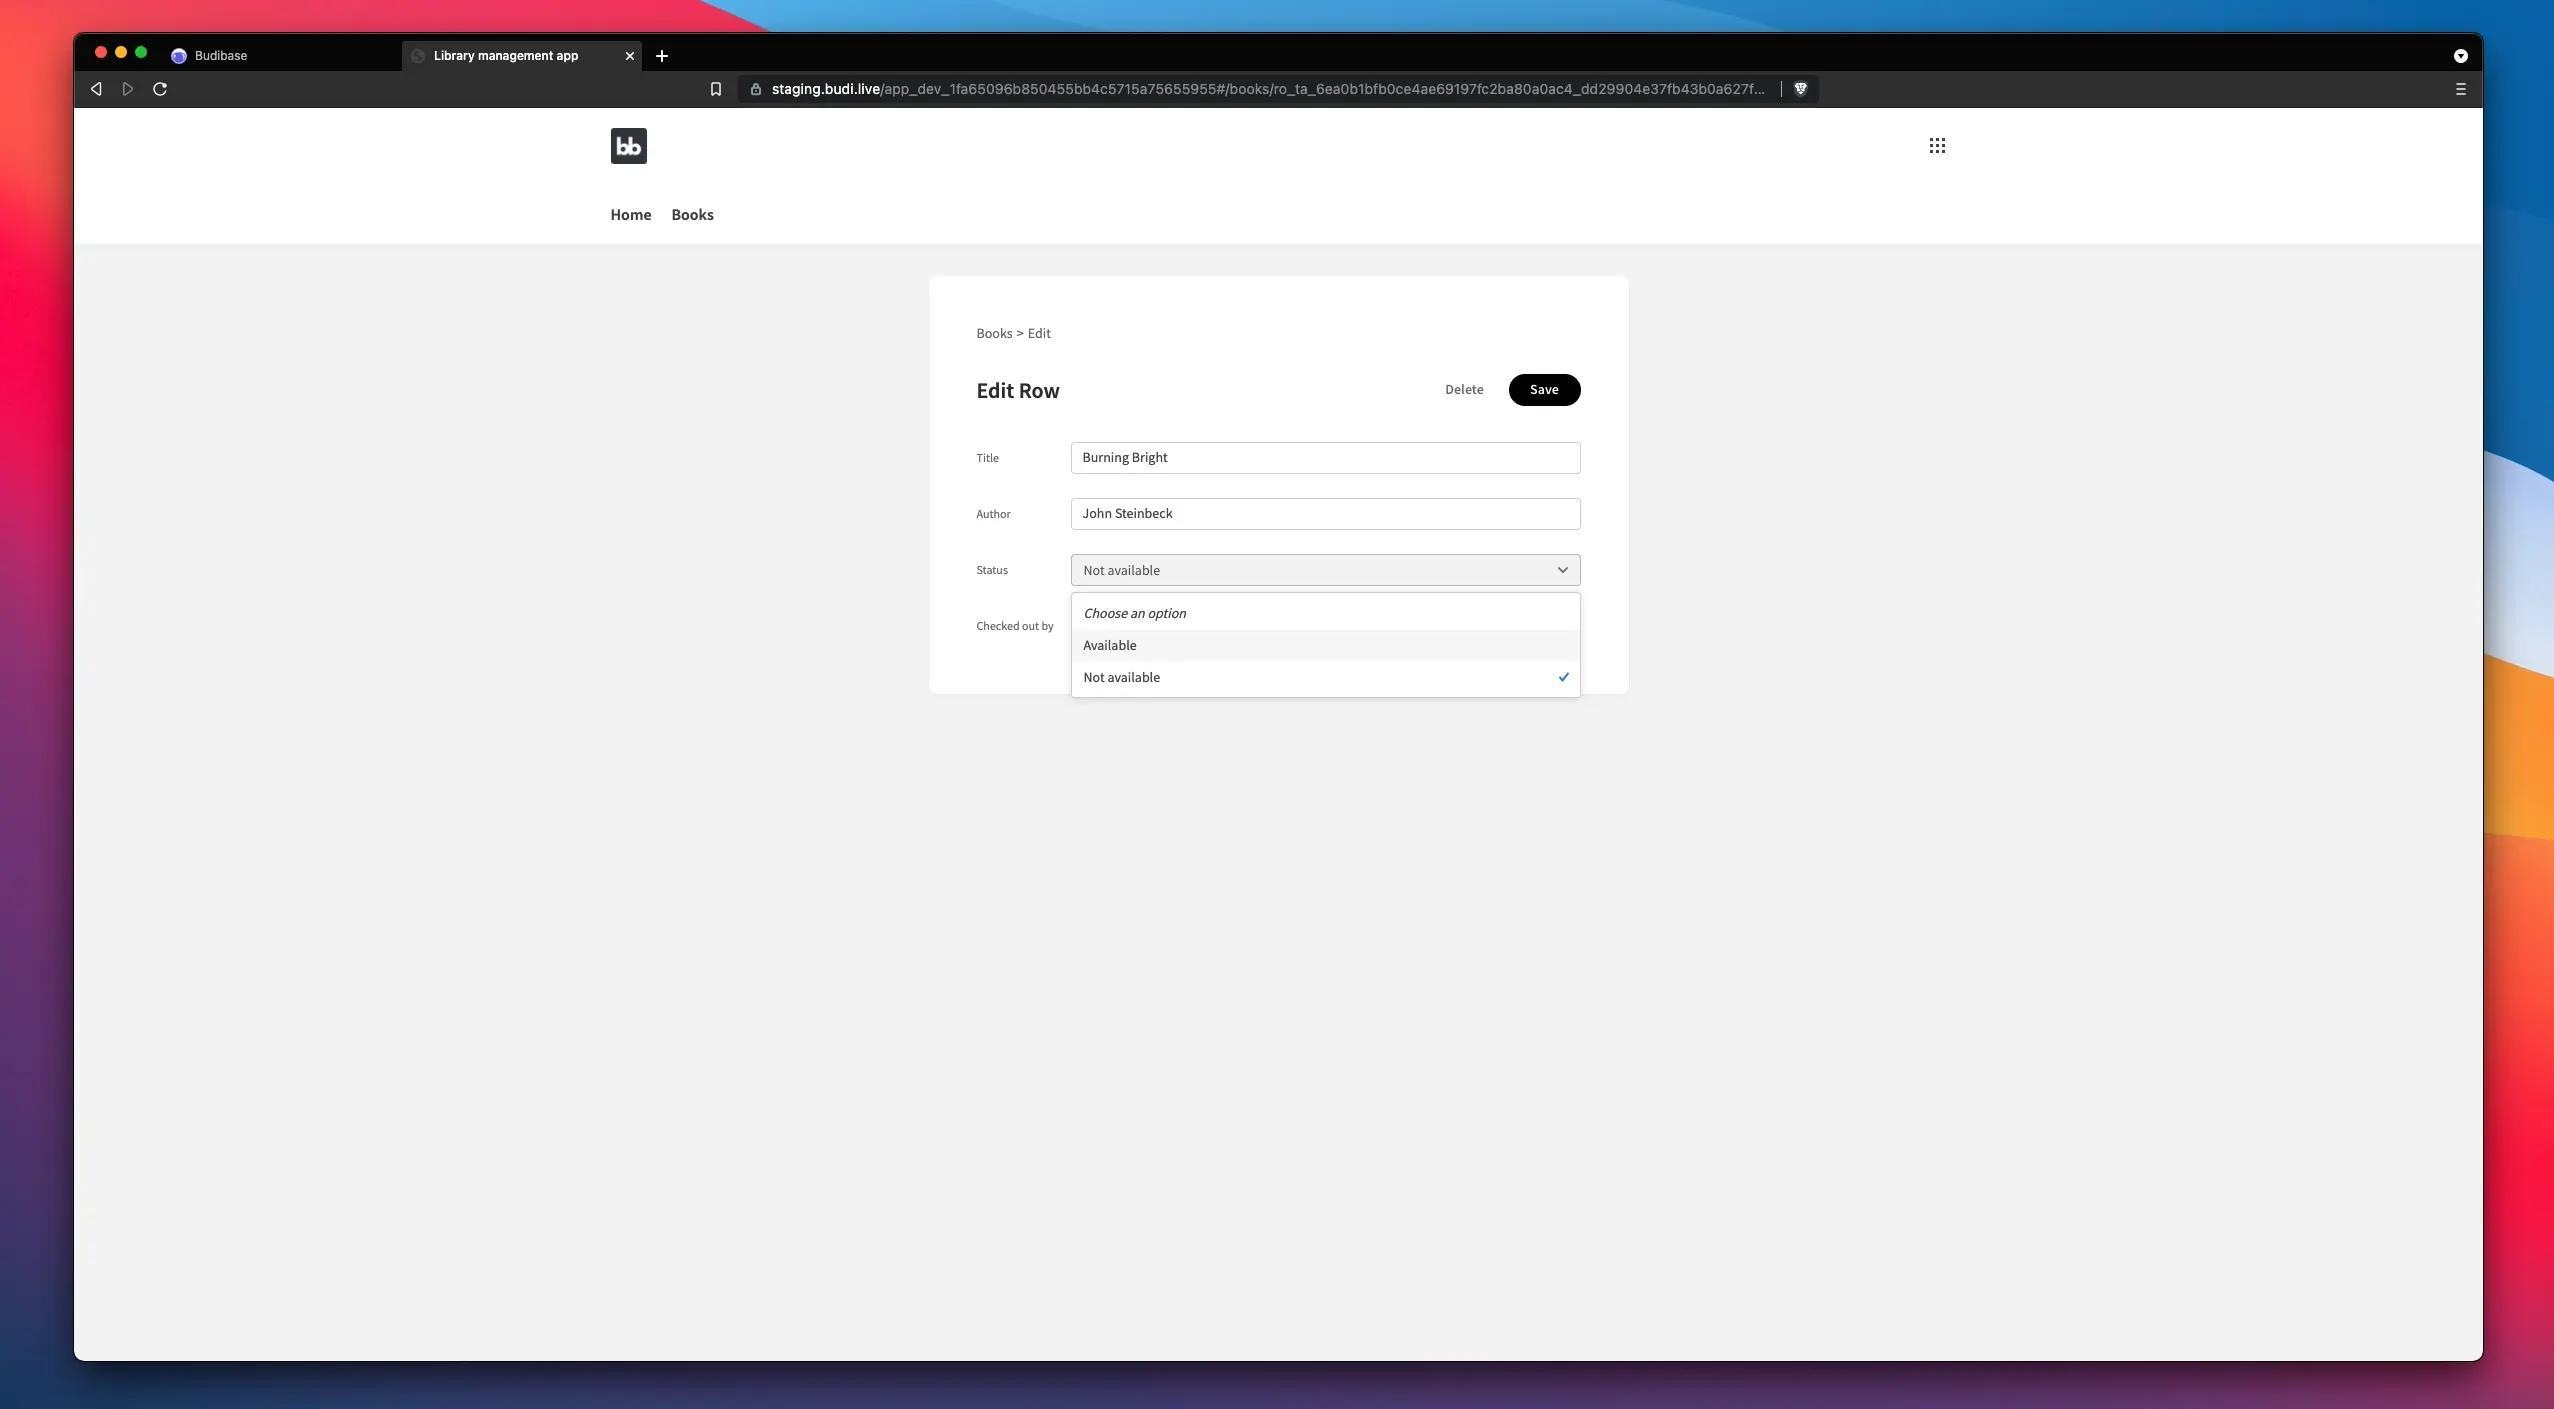button: (1509, 373, 1582, 410)
dropdown: (1072, 555, 1582, 587)
icon: (1926, 134, 1948, 160)
input: (1071, 500, 1582, 533), (1072, 444, 1582, 475)
label: (973, 382, 1072, 410), (979, 616, 1058, 639), (973, 557, 1015, 583), (1442, 383, 1492, 401), (977, 503, 1013, 524), (977, 449, 1006, 470)
